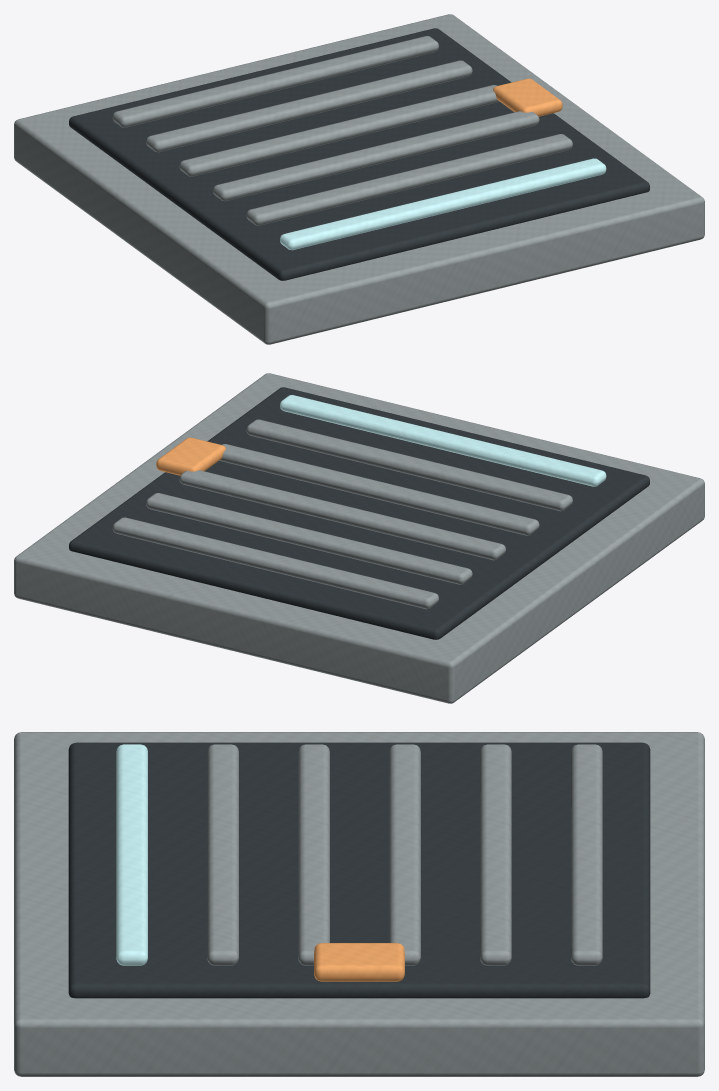
File: FloorDrain.glb
3 views of the same model, one above another, from view 1: azimuth 30°, elevation 25°; view 2: azimuth 150°, elevation 25°; view 3: azimuth 270°, elevation 25° (orthographic). The views are drawn at different scales.
Parts seen in each view (by area): view 1: FloorDrain_Mesh; view 2: FloorDrain_Mesh; view 3: FloorDrain_Mesh.
Part boxes in pixels (bbox=[...]): FloorDrain_Mesh: bbox=[14, 14, 704, 344]; FloorDrain_Mesh: bbox=[14, 373, 704, 703]; FloorDrain_Mesh: bbox=[14, 732, 704, 1076].
Size of the model in its own units: 0.76 by 0.11 by 0.76.
4 materials, 4 textured.
